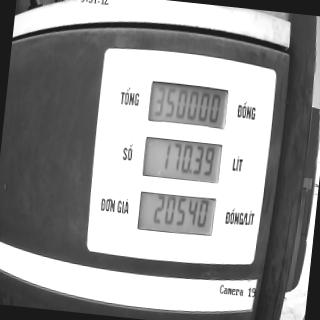screen: (134, 77, 230, 241)
